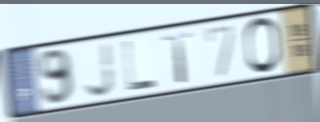7: (202, 22, 237, 81)
9: (36, 46, 77, 107)
J: (82, 39, 118, 99)
L: (121, 38, 158, 94)
O: (243, 15, 283, 76)
T: (162, 29, 196, 86)
